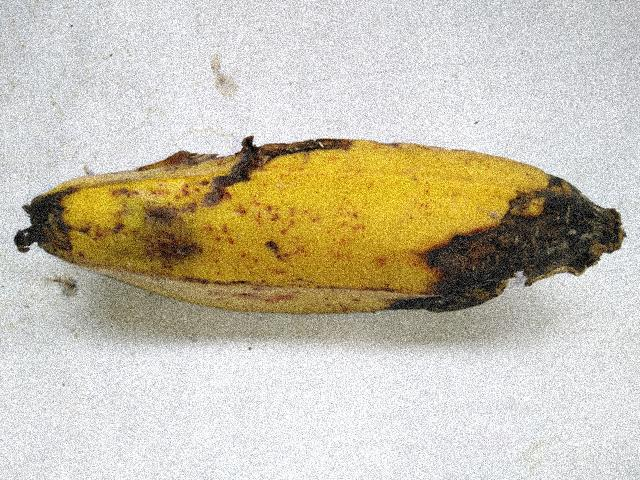rotten: (395, 131, 639, 338), (149, 88, 379, 214), (122, 197, 225, 286), (0, 175, 87, 274)
